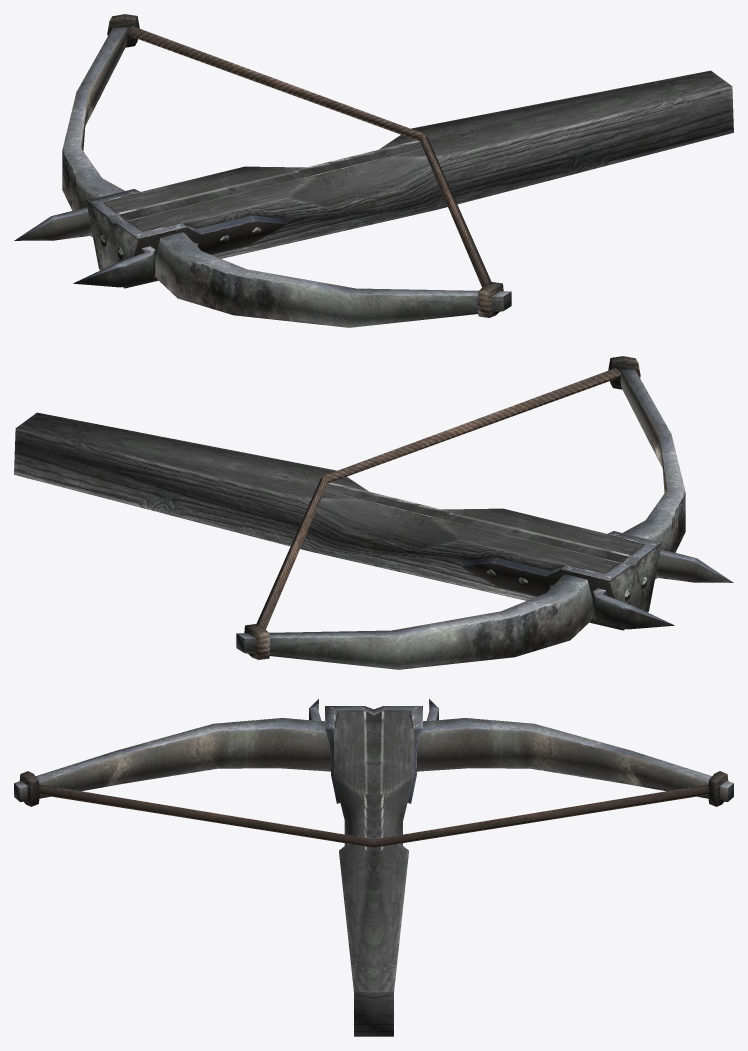
Rendered from CROSSBOW_BLACK_02.glb.
3 views of the same model, one above another, from view 1: azimuth 30°, elevation 25°; view 2: azimuth 150°, elevation 25°; view 3: azimuth 270°, elevation 25° (orthographic). The views are drawn at different scales.
Visible parts, largest first — view 1: CROSSBOW_BLACK_02; view 2: CROSSBOW_BLACK_02; view 3: CROSSBOW_BLACK_02.
Boxes of the visible parts, x1,y1,x2,y2 form: CROSSBOW_BLACK_02: (14,14,733,327); CROSSBOW_BLACK_02: (14,356,733,669); CROSSBOW_BLACK_02: (14,699,733,1036).
Size of the model in its own units: 0.7256 by 0.0839 by 0.7094.
1 material, 1 textured.
